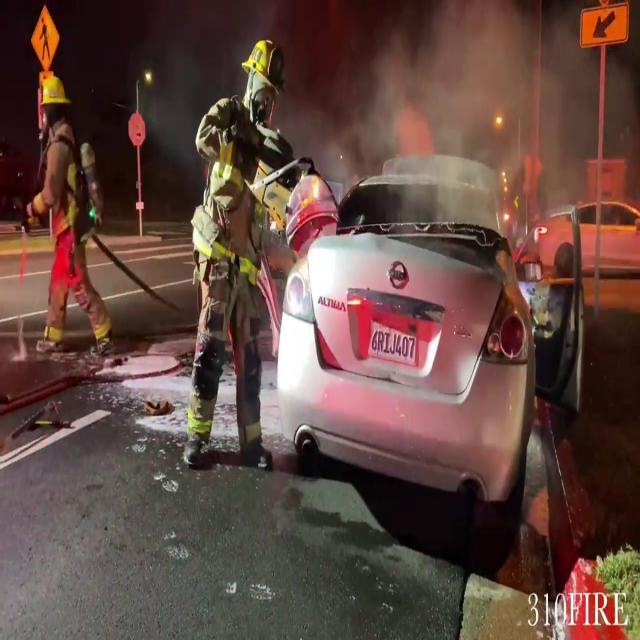Smoke: (300, 0, 582, 191)
